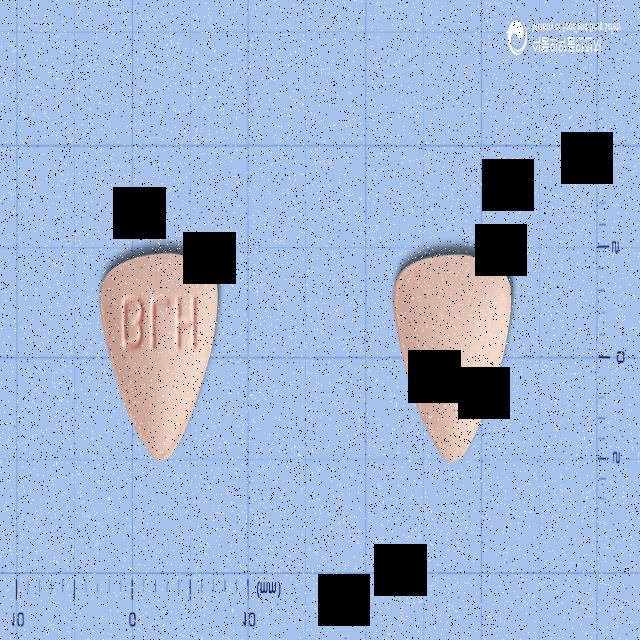Baracle: (96, 244, 225, 466), (391, 245, 517, 466)
